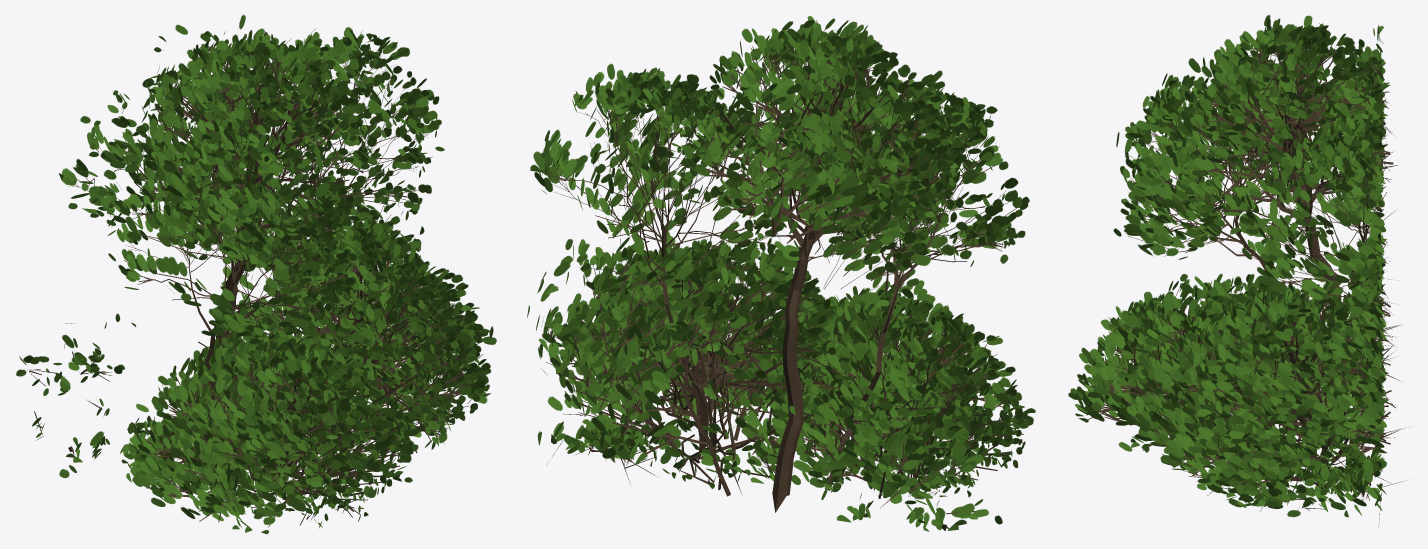
3 renders of one model, left to right at view 1: azimuth 30°, elevation 25°; view 2: azimuth 150°, elevation 25°; view 3: azimuth 270°, elevation 25°, orthographic. The views are drawn at different scales.
Visible parts, largest first — view 1: oak 01.001_trunk_Mat.001_0.384; view 2: oak 01.001_trunk_Mat.001_0.384; view 3: oak 01.001_trunk_Mat.001_0.384.
Boxes of the visible parts, x1,y1,x2,y2 form: oak 01.001_trunk_Mat.001_0.384: [16, 14, 496, 534]; oak 01.001_trunk_Mat.001_0.384: [527, 16, 1035, 531]; oak 01.001_trunk_Mat.001_0.384: [1068, 14, 1405, 527].
Bounding box in the file's own units: 5.02 × 4.92 × 3.66.
Materials: 2 (1 with a texture image).
